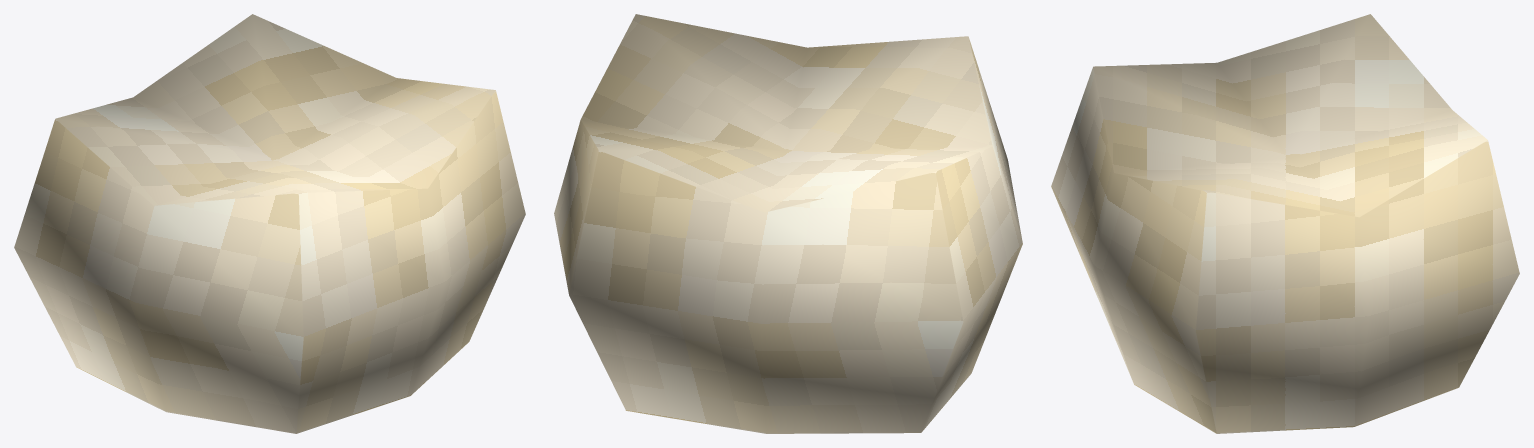
The model's file is s_tooth.glb.
The picture shows the model from 3 angles, left to right: view 1: azimuth 30°, elevation 25°; view 2: azimuth 150°, elevation 25°; view 3: azimuth 270°, elevation 25°; orthographic projection. The views are drawn at different scales.
Parts seen in each view (by area): view 1: tooth_molar; view 2: tooth_molar; view 3: tooth_molar.
Boxes of the visible parts, x1,y1,x2,y2 form: tooth_molar: (14, 14, 525, 433); tooth_molar: (554, 14, 1022, 433); tooth_molar: (1051, 14, 1519, 433).
Size of what is drawn, in the model's own units: 0.3533 by 0.202 by 0.3392.
1 material, 1 textured.
